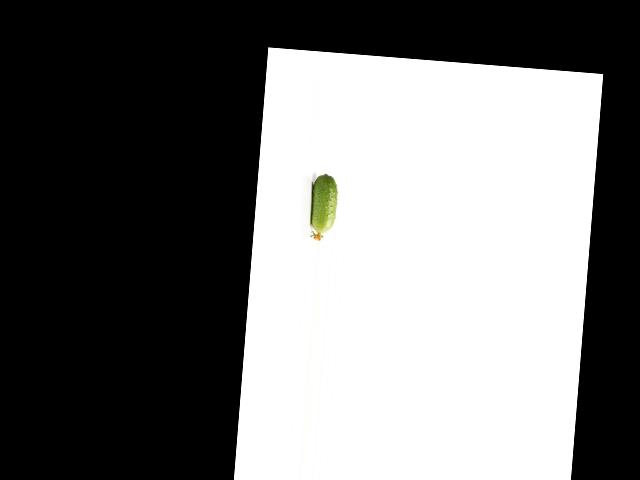cucumber: (307, 172, 339, 241)
